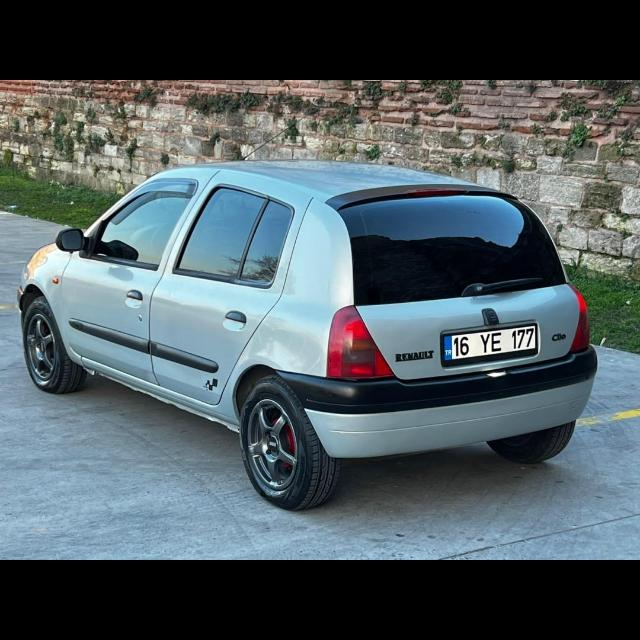Plaka: (444, 326, 536, 362)
